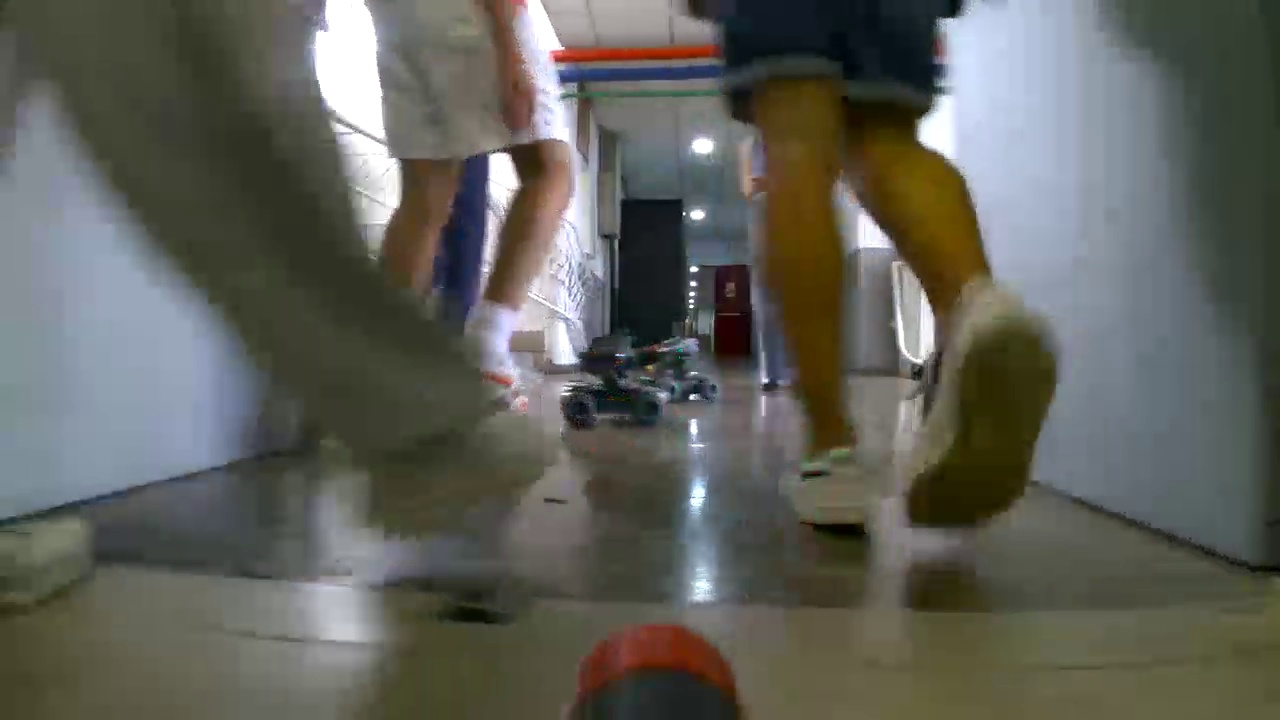robot: (548, 317, 670, 435), (637, 327, 724, 412)
